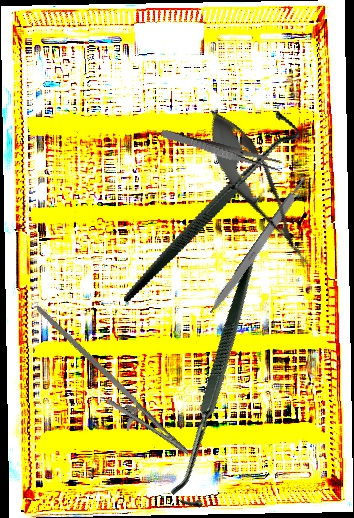Dressing Forceps: (159, 128, 283, 173)
Hook Surgical: (92, 252, 352, 515), (83, 107, 333, 303)
Micro Scissor: (191, 99, 327, 280)
Needle Holder: (10, 305, 206, 468)
Scalpel Handle: (207, 173, 312, 318)
